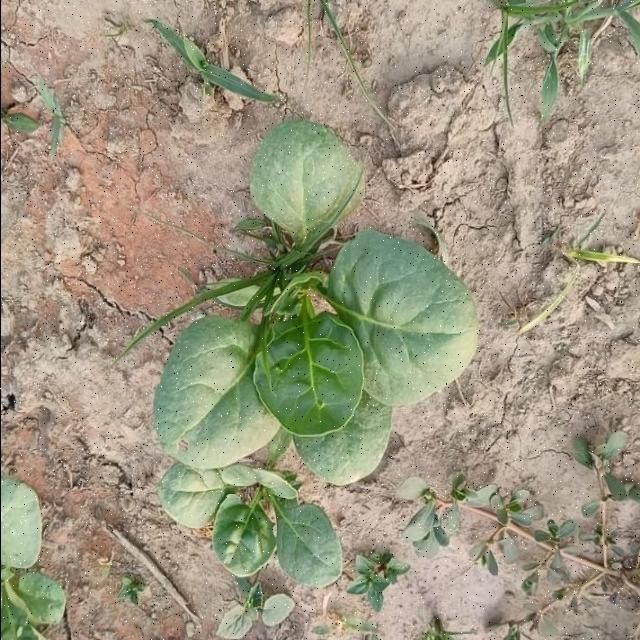plant: (124, 120, 478, 587)
